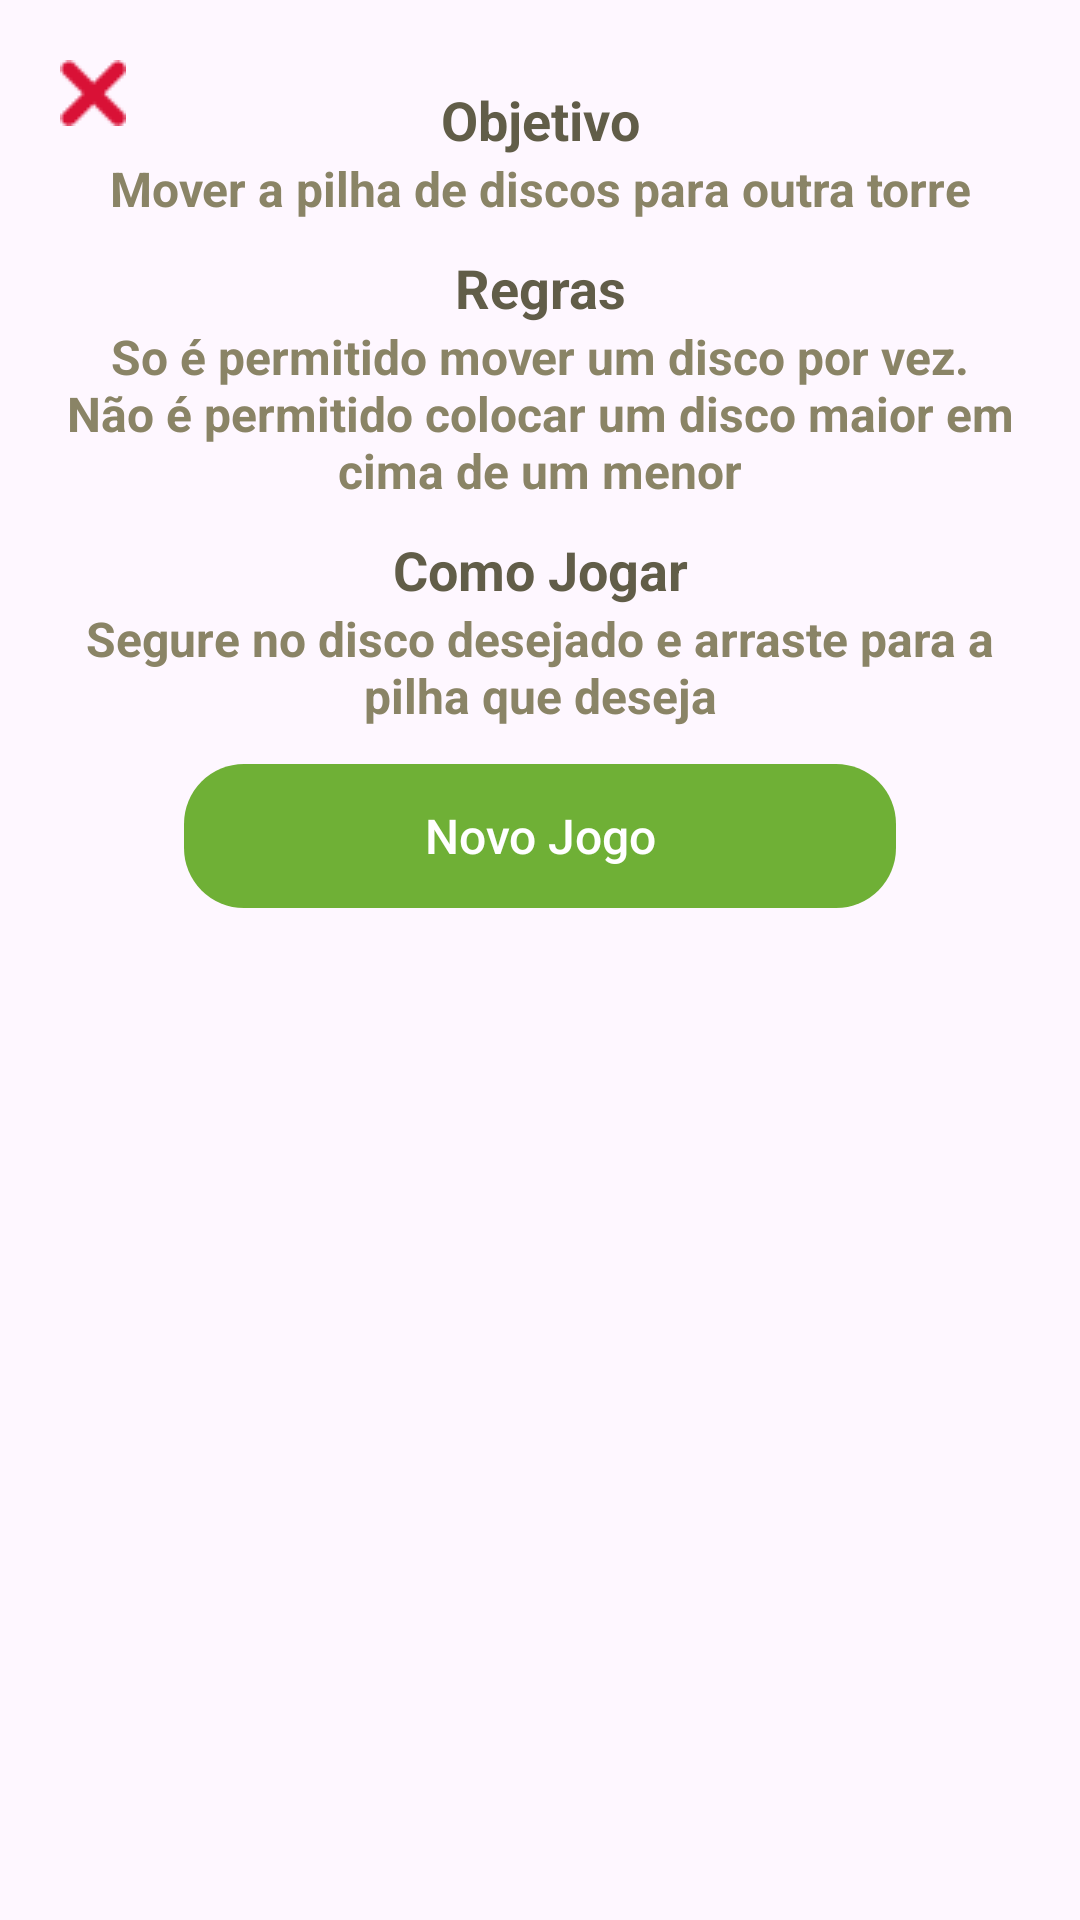

Screen size 1080px x 1920px. Icon name, then its center in pixels as (x=x, y=y):
botão de fechar: (x=93, y=93)
